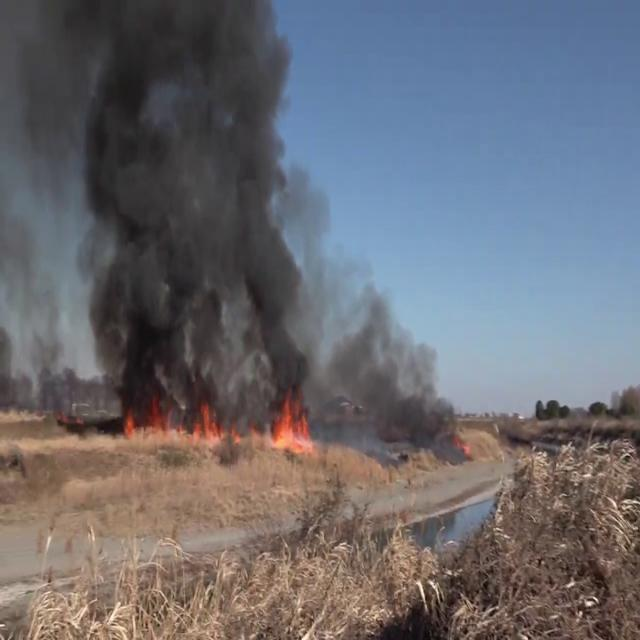Fire: (121, 387, 227, 450), (268, 385, 314, 459)
Smoke: (86, 0, 322, 390), (1, 1, 92, 392), (312, 263, 470, 448)
